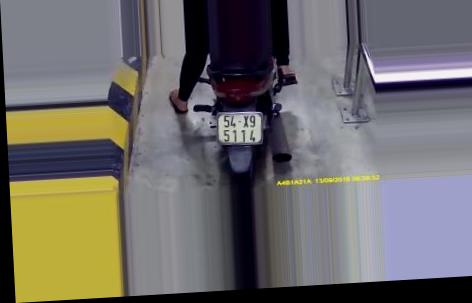License_Plate: (213, 108, 265, 149)
